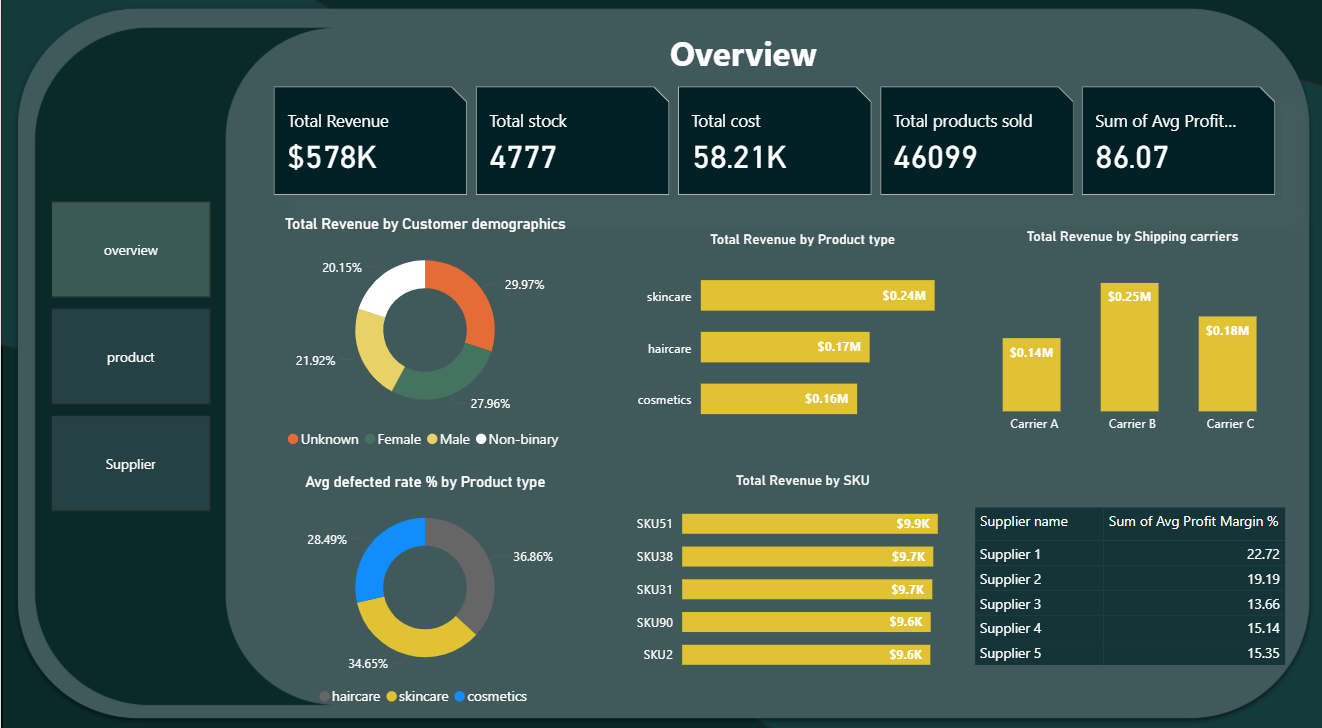

The dashboard page shown, as its layout file describes it:
{"tool":"powerbi","page":{"name":"overview","canvas":[1280,720],"ordinal":0},"visuals":[{"type":"cardVisual","fields":{"Data":["Table.Total Revenue","Table.Total stock","Table.Total cost","Table.Total products sold","Sum(supply_chain_data.Profit Margin)"]},"box":[258.1,83.6,977.1,115.7],"z":0},{"type":"donutChart","fields":{"Y":["Table.Total Revenue"],"Category":["supply_chain_data.Customer demographics"]},"box":[258.1,211.8,302.6,234.9],"z":1000},{"type":"donutChart","fields":{"Y":["Table.Avg defected rate %"],"Category":["supply_chain_data.Product type"]},"box":[258.1,461,302.6,234.9],"z":2000},{"type":"clusteredBarChart","fields":{"Y":["Table.Total Revenue"],"Category":["supply_chain_data.Product type"]},"box":[605.1,227.8,336.4,204.7],"z":3000},{"type":"clusteredBarChart","fields":{"Y":["Table.Total Revenue"],"Category":["supply_chain_data.SKU"]},"box":[605.1,461,336.4,204.7],"z":4000},{"type":"columnChart","fields":{"Category":["supply_chain_data.Shipping carriers"],"Y":["Table.Total Revenue"]},"box":[923.7,226,336.4,206.5],"z":5000},{"type":"tableEx","fields":{"Values":["supply_chain_data.Supplier name","Sum(supply_chain_data.Avg Profit Margin %)"]},"box":[934.4,489.4,318.6,176.2],"z":6000},{"type":"textbox","box":[640.7,28.5,169.1,55.2],"z":7000},{"type":"pageNavigator","box":[48.1,199.3,154.8,300.8],"z":8000}]}

Visuals, with their boxes in screenshot pixels (x1, y1, x2, y2), scaled from the page's 1280x720 canvas onto the 1322x728 screenshot:
cardVisual - Table.Total Revenue x Table.Total stock: [267, 85, 1276, 202]
donutChart - Table.Total Revenue x supply_chain_data.Customer demographics: [267, 214, 579, 452]
donutChart - Table.Avg defected rate % x supply_chain_data.Product type: [267, 466, 579, 704]
clusteredBarChart - Table.Total Revenue x supply_chain_data.Product type: [625, 230, 972, 437]
clusteredBarChart - Table.Total Revenue x supply_chain_data.SKU: [625, 466, 972, 673]
columnChart - supply_chain_data.Shipping carriers x Table.Total Revenue: [954, 229, 1301, 437]
tableEx - supply_chain_data.Supplier name x Sum(supply_chain_data.Avg Profit Margin %): [965, 495, 1294, 673]
textbox: [662, 29, 836, 85]
pageNavigator: [50, 202, 210, 506]
